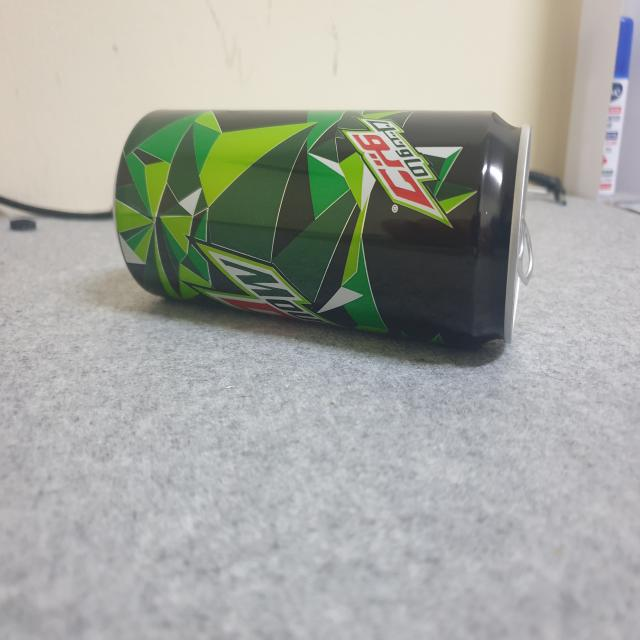non-organic waste: (109, 86, 543, 398)
